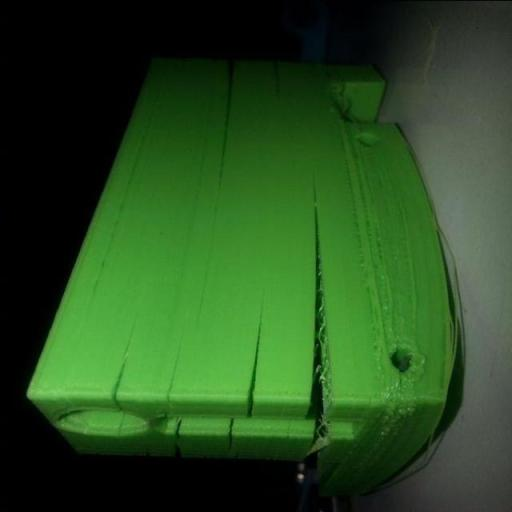cracks: (287, 182, 352, 451), (216, 63, 253, 196), (240, 299, 271, 420), (381, 326, 430, 392), (346, 130, 393, 161), (168, 413, 190, 457), (221, 411, 241, 453)
